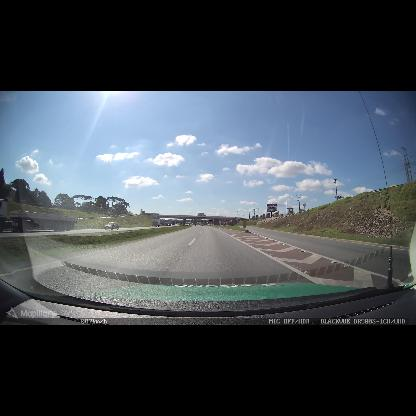O-MP: (243, 219, 247, 228)
